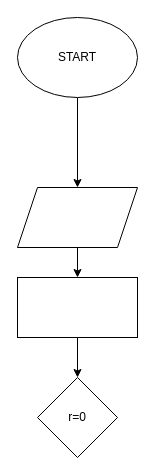
The diagram is 155 pixels wide and 475 high, and some of its shapes have lost their labels. Here are the shapes that lost their labels. From the top down, the box of each, then its label:
(16, 186, 138, 248): num
(16, 276, 138, 338): qoutient=num%2
